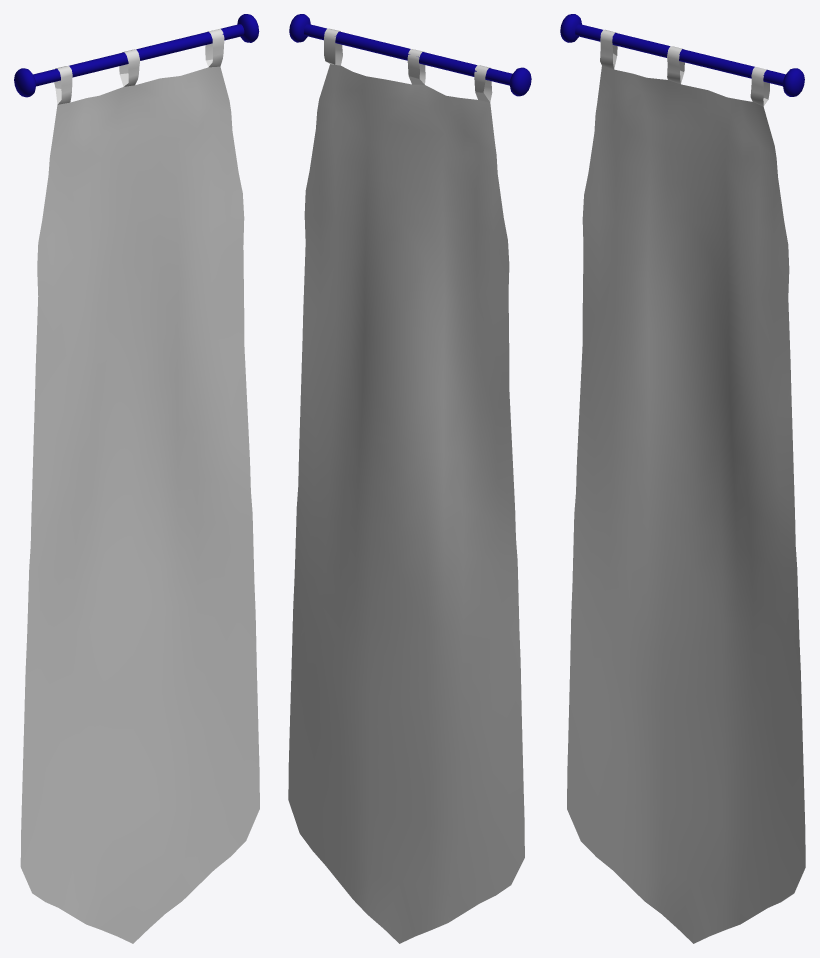
The model's file is Flag_2.fbx.
3 renders of one model, left to right at view 1: azimuth 30°, elevation 25°; view 2: azimuth 150°, elevation 25°; view 3: azimuth 330°, elevation 25°, orthographic.
Parts seen in each view (by area): view 1: default, ss; view 2: default, ss; view 3: default, ss.
Part boxes in pixels (x1,y1,x2,y2): default: [20, 28, 259, 943]; ss: [14, 14, 259, 97]; default: [288, 28, 524, 943]; ss: [289, 14, 531, 96]; default: [567, 29, 805, 943]; ss: [560, 14, 804, 96].
Size of the model in its own units: 291 by 1041 by 32.88.
